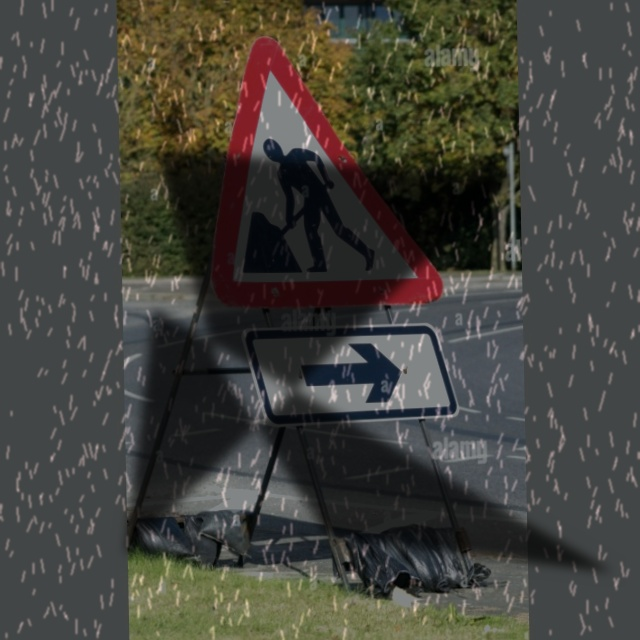Men_at_Work: (182, 35, 452, 310)
